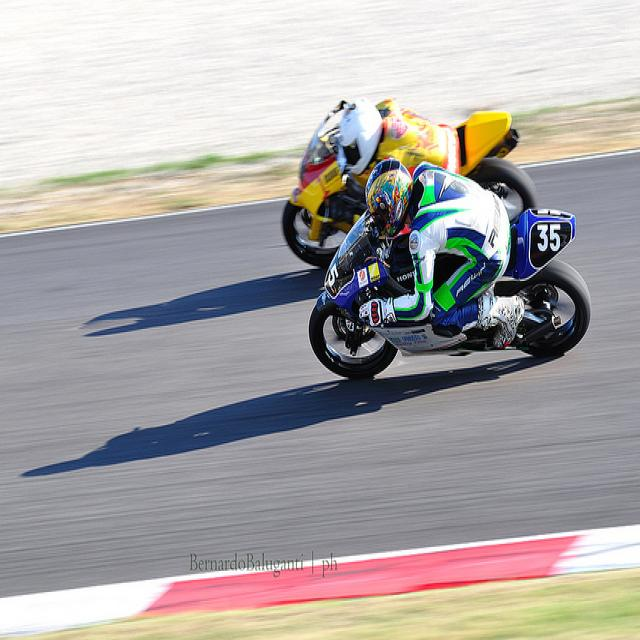motor: (306, 211, 591, 381), (279, 95, 545, 272)
